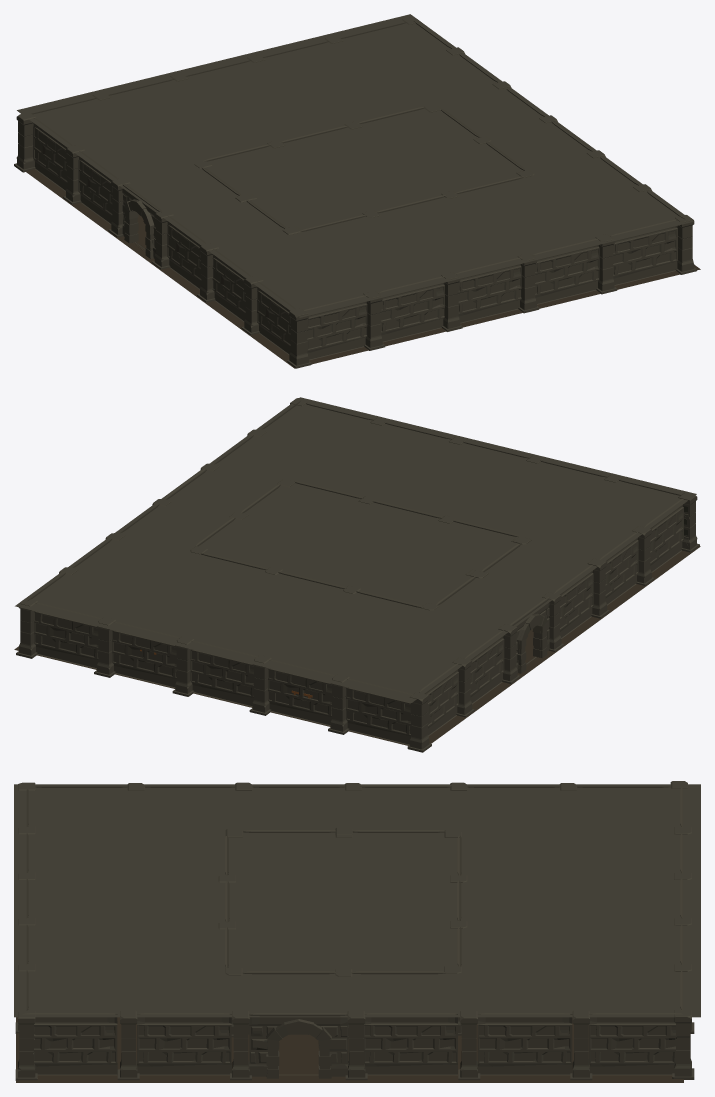
The model's file is 10komnata1lvl.fbx.
The picture shows the model from 3 angles, top to bottom: view 1: azimuth 30°, elevation 25°; view 2: azimuth 150°, elevation 25°; view 3: azimuth 270°, elevation 25°; orthographic projection. The views are drawn at different scales.
Visible parts, largest first — view 1: криша 3.001, Plane.101, Plane.129, Plane.128, Plane.127, Plane.124, Plane.125, Plane.117, Plane.118, Plane.119, Plane.121, Plane.122 (+13 smaller); view 2: криша 3.001, Plane.102, Plane.104, Plane.106, Plane.153, Plane.103, Plane.101, Plane.117, Plane.119, Plane.121, Plane.122, Plane.118 (+13 smaller); view 3: криша 3.001, Plane.101, Plane.108, Plane.111, Plane.109, Plane.107, Plane.116, Plane.495, Cube.096, Cube.101, Cube.100, Cube.102 (+3 smaller).
Boxes of the visible parts, x1,y1,x2,y2 form: криша 3.001: (17, 14, 693, 317); Plane.101: (25, 169, 700, 368); Plane.129: (610, 220, 677, 285); Plane.128: (532, 238, 599, 304); Plane.127: (378, 276, 444, 342); Plane.124: (455, 257, 521, 323); Plane.125: (304, 295, 367, 360); Plane.117: (78, 150, 117, 224); Plane.118: (33, 118, 72, 191); Plane.119: (167, 215, 205, 289); Plane.121: (257, 281, 295, 354); Plane.122: (212, 249, 250, 321); криша 3.001: (15, 397, 696, 702); Plane.102: (345, 678, 412, 744); Plane.104: (112, 621, 179, 687); Plane.106: (34, 602, 100, 668); Plane.153: (190, 640, 257, 706); Plane.103: (267, 659, 334, 725); Plane.101: (14, 546, 700, 745); Plane.117: (465, 630, 504, 704); Plane.119: (554, 565, 593, 638); Plane.121: (644, 499, 683, 572); Plane.122: (600, 532, 638, 605); Plane.118: (419, 663, 458, 736); криша 3.001: (14, 784, 700, 1017); Plane.101: (16, 1017, 683, 1082); Plane.108: (477, 1013, 572, 1075); Plane.111: (137, 1013, 231, 1075); Plane.109: (363, 1013, 457, 1075); Plane.107: (589, 1013, 682, 1075); Plane.116: (23, 1013, 117, 1075); Plane.495: (249, 1014, 348, 1078); Cube.096: (458, 1010, 480, 1080); Cube.101: (230, 1010, 251, 1080); Cube.100: (15, 1010, 37, 1080); Cube.102: (117, 1010, 139, 1080).
Bounding box in the file's own units: 6574 × 818 × 7901.
